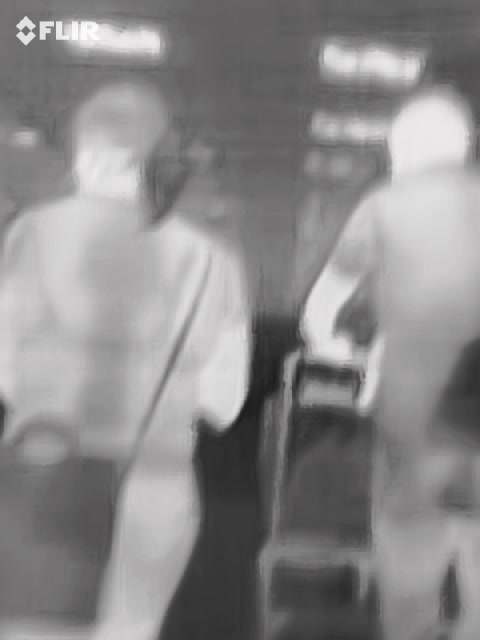head: (76, 85, 170, 197), (386, 91, 475, 180)
